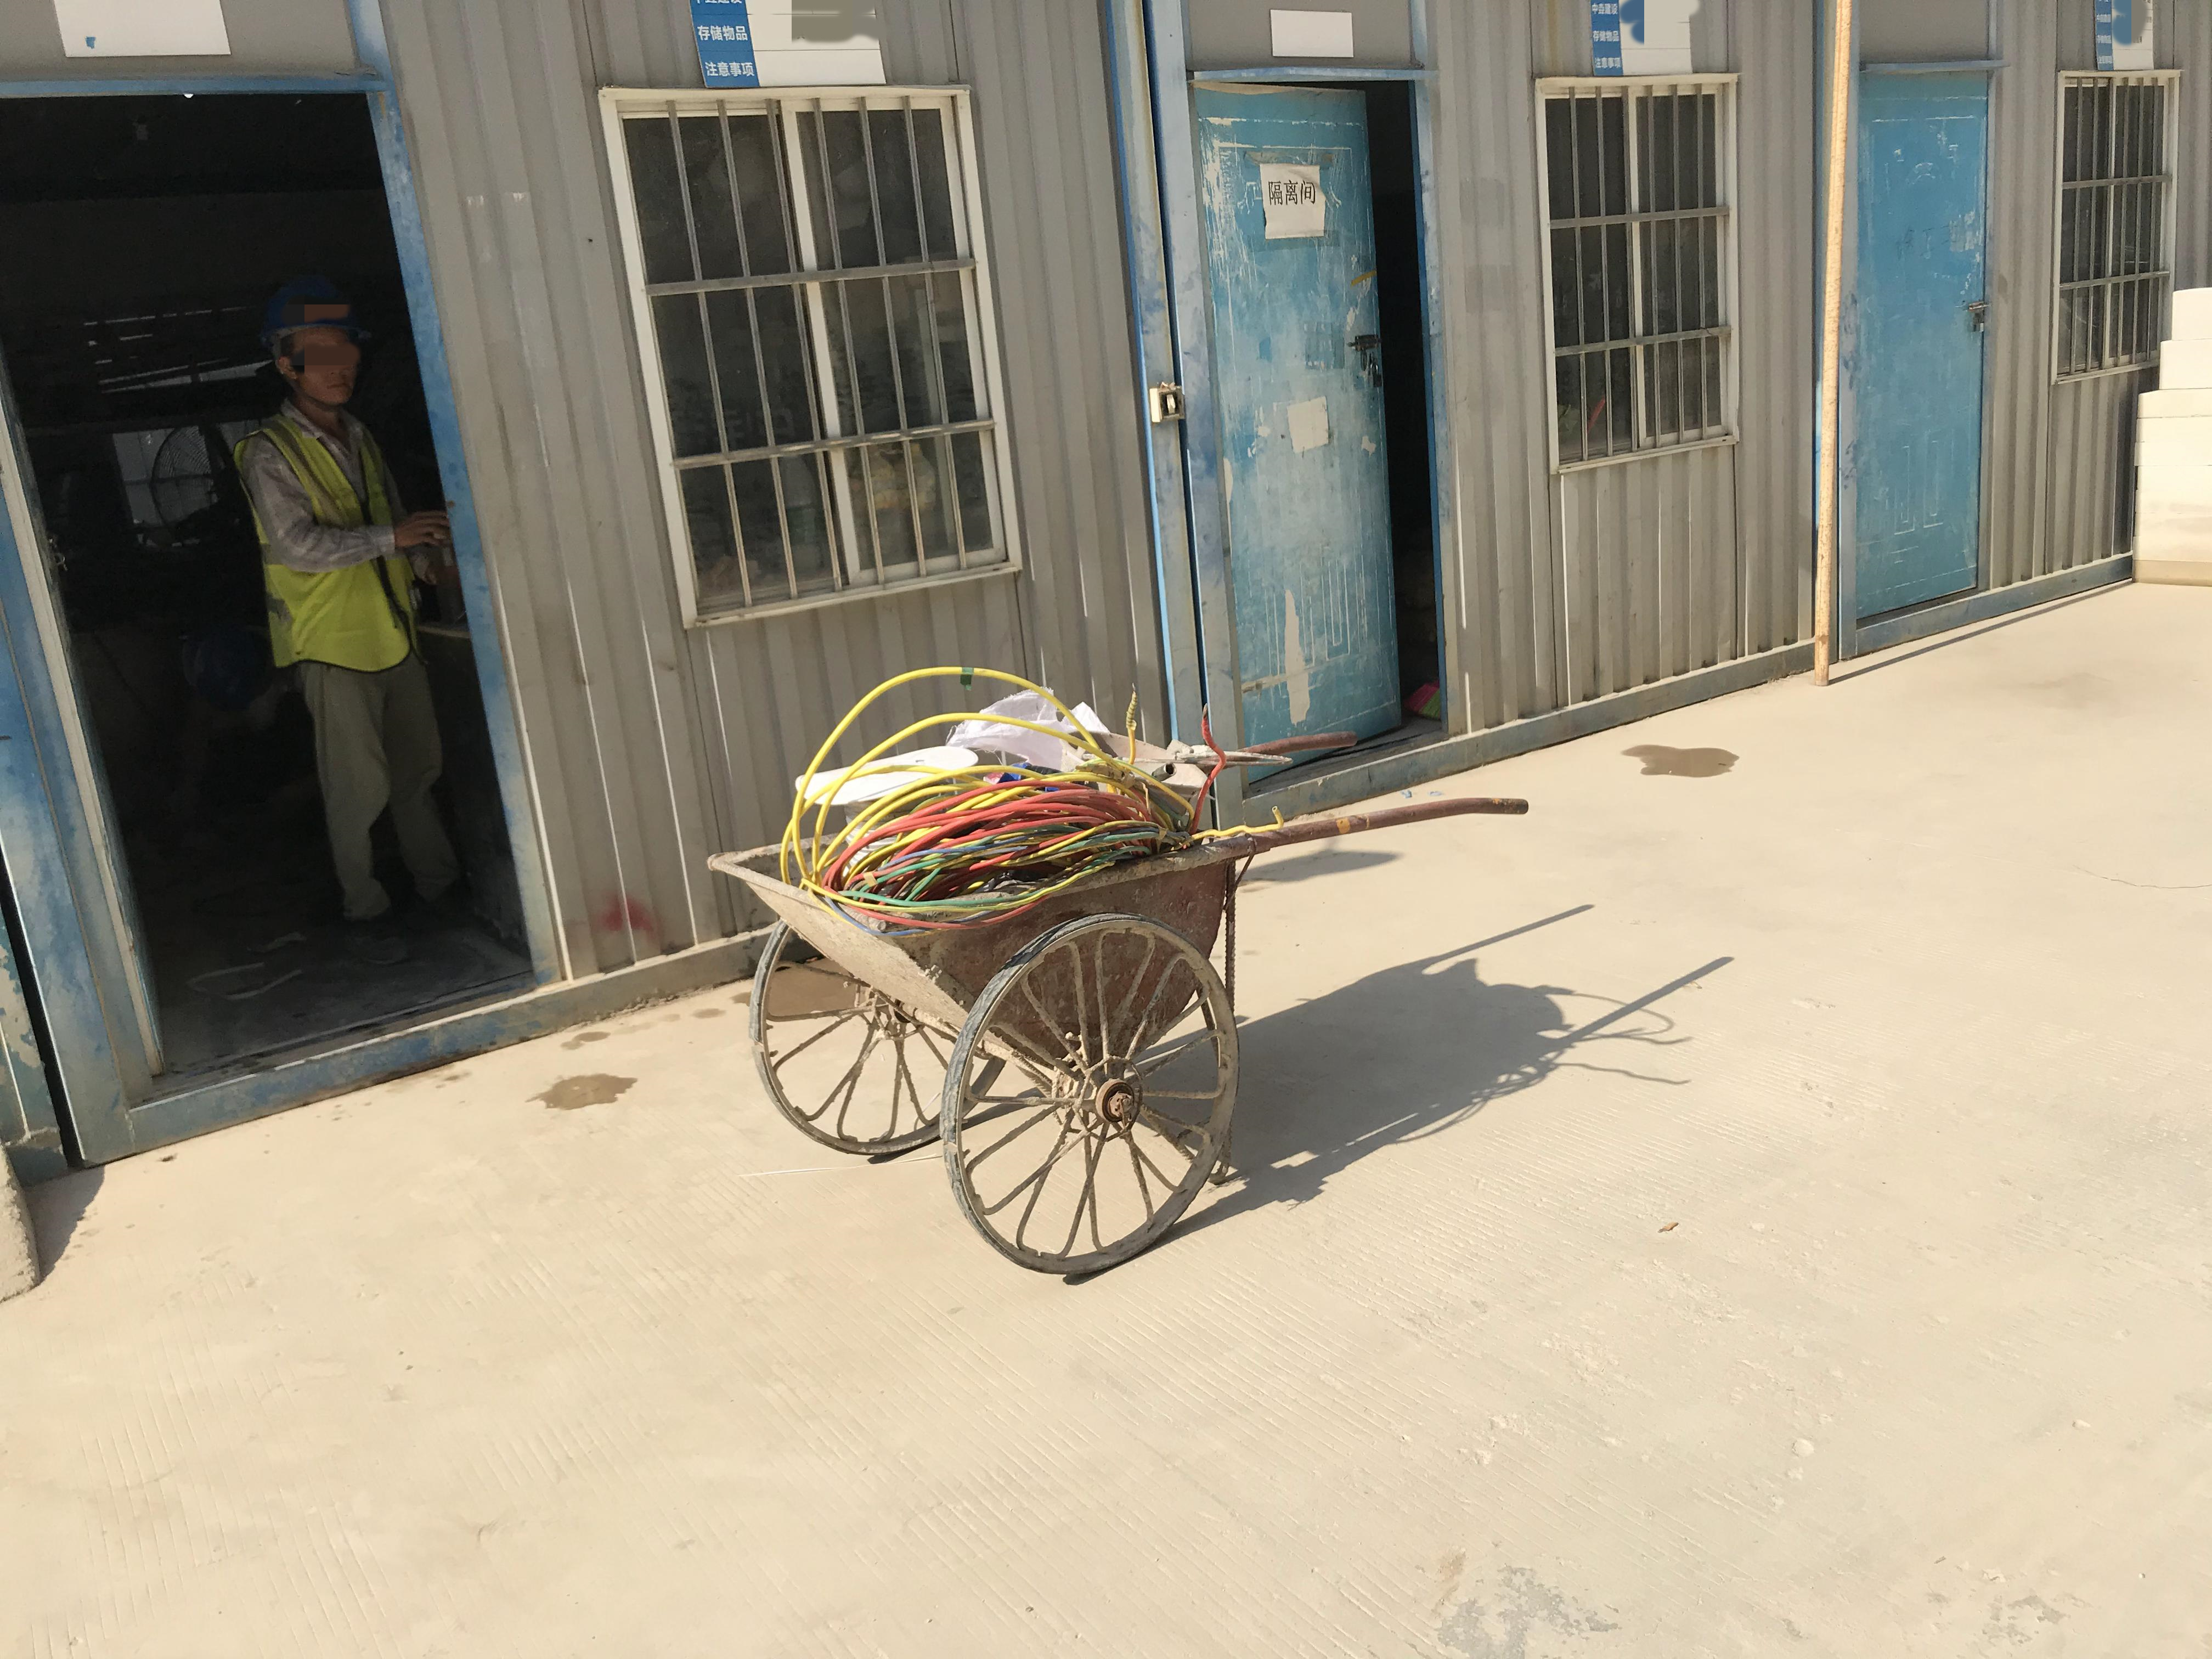handcart: (698, 712, 1560, 1289)
helmet: (266, 283, 366, 337)
person: (216, 282, 451, 949)
vest: (235, 408, 417, 673)
